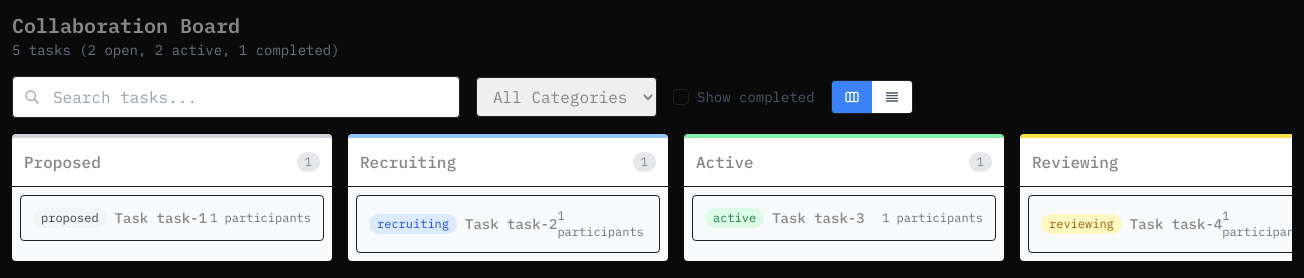
it: CollaborationBoard › Filtering › should filter by category
Select "Integration" in the dropdown at (566, 97), box [476,77,657,117]
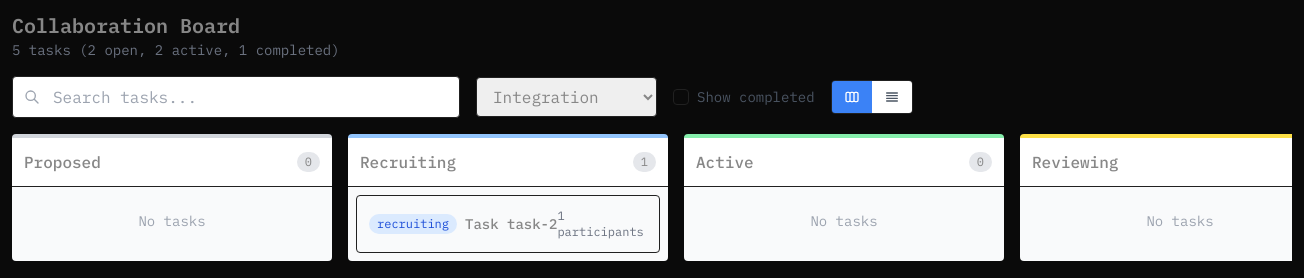
expect the heading "Task task-2" is shown: met, box [465,214,557,234]
expect the button "Task task-1" is gone: met
